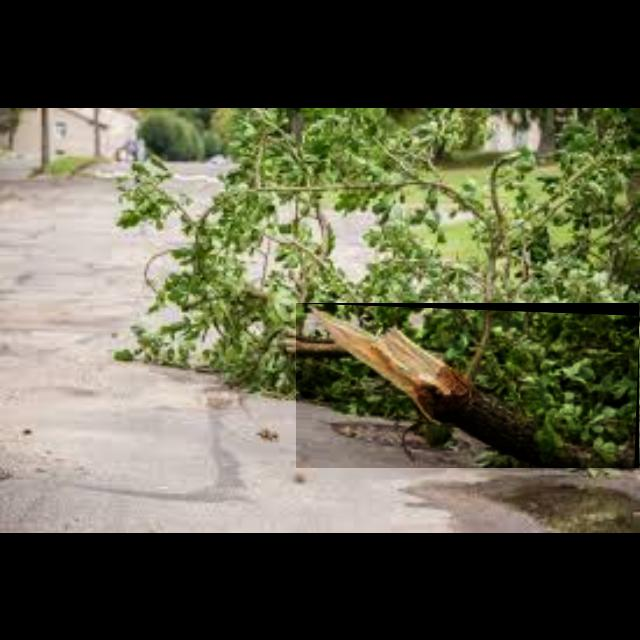Fallen Tree: (296, 303, 640, 469)
